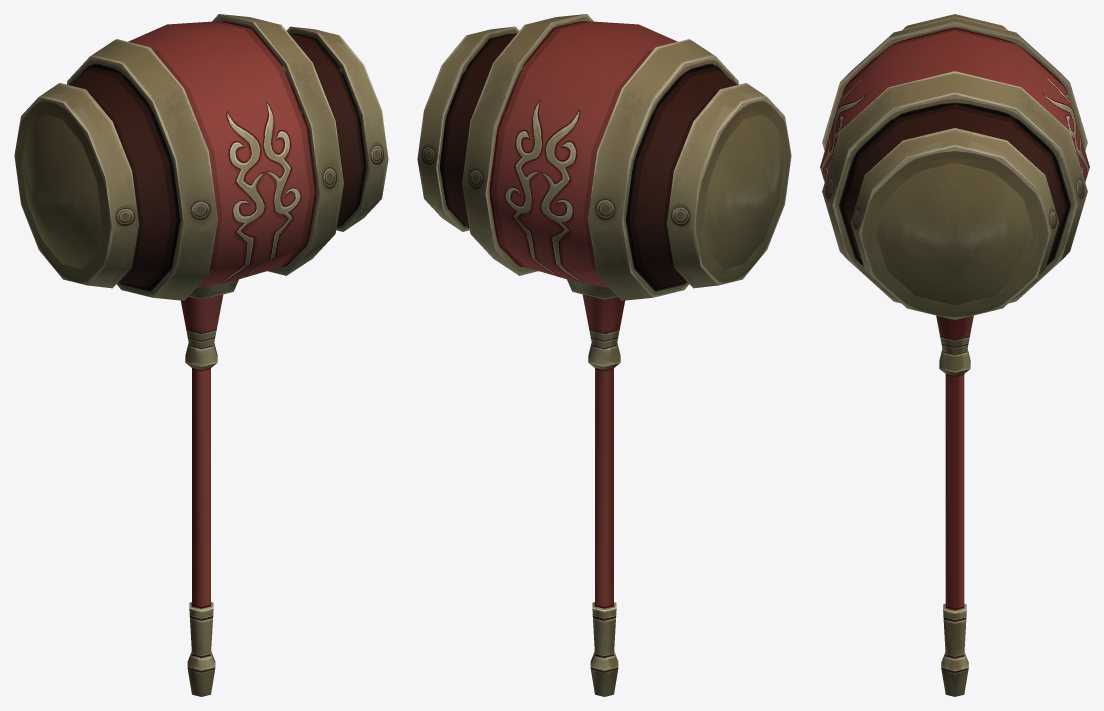
Rendered from wp_hammer_nlv20.fbx.
3 views of the same model, side by side, from view 1: azimuth 30°, elevation 25°; view 2: azimuth 150°, elevation 25°; view 3: azimuth 270°, elevation 25° (orthographic).
Visible parts, largest first — view 1: wp_hammer_nlv20; view 2: wp_hammer_nlv20; view 3: wp_hammer_nlv20.
Boxes of the visible parts, x1,y1,x2,y2 form: wp_hammer_nlv20: [14, 14, 388, 696]; wp_hammer_nlv20: [417, 14, 791, 696]; wp_hammer_nlv20: [820, 14, 1089, 696].
Size of the model in its own units: 140 by 263 by 99.29.
